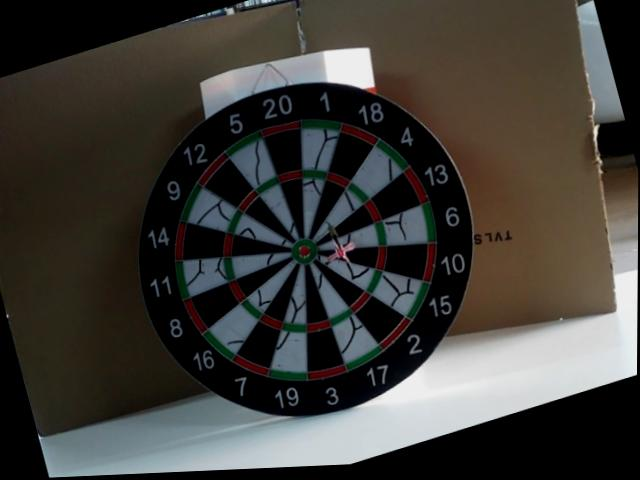single_4: (310, 187, 368, 239)
